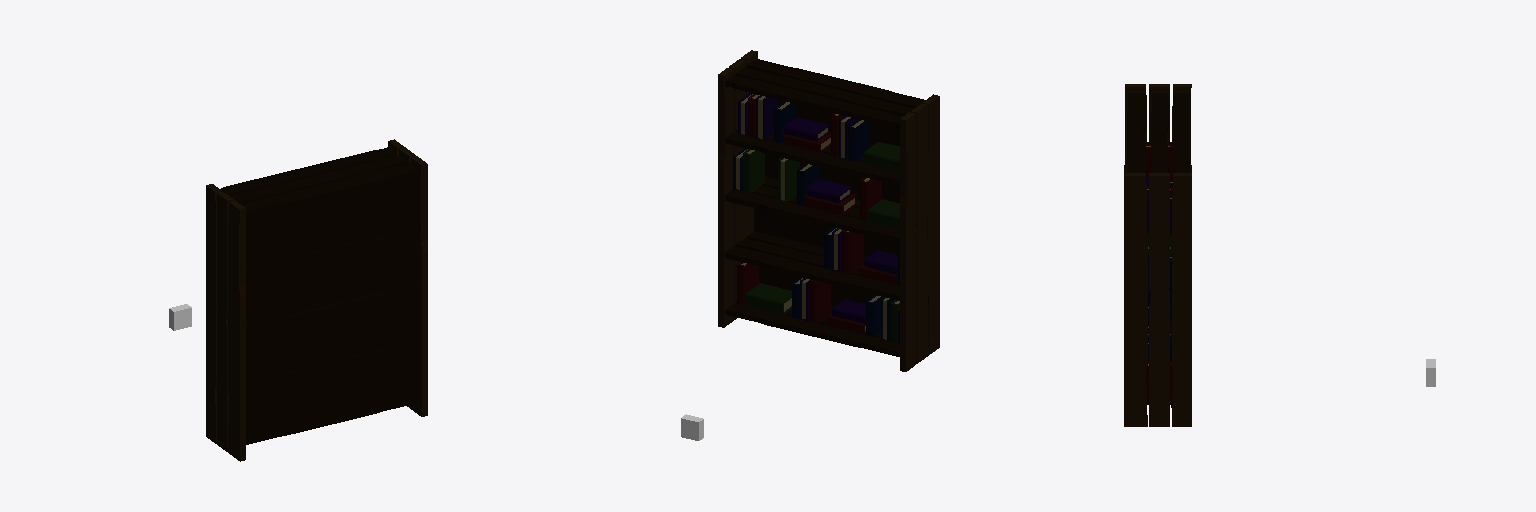
File: Bookcase_Full_Cylinder.obj
The picture shows the model from 3 angles: view 1: azimuth 30°, elevation 25°; view 2: azimuth 150°, elevation 25°; view 3: azimuth 270°, elevation 25°; orthographic projection.
Parts seen in each view (by area): view 1: Bookcase_Full_Cylinder.044, Gold; view 2: Bookcase_Full_Cylinder.044, Gold; view 3: Bookcase_Full_Cylinder.044.
Boxes of the visible parts, box(x1,y1,x2,y2) form: Bookcase_Full_Cylinder.044: box(206, 139, 427, 461); Gold: box(169, 304, 191, 330); Bookcase_Full_Cylinder.044: box(718, 50, 939, 371); Gold: box(681, 414, 703, 440); Bookcase_Full_Cylinder.044: box(1124, 84, 1191, 426).
Bounding box in the file's own units: 2.08 × 2.66 × 2.99.